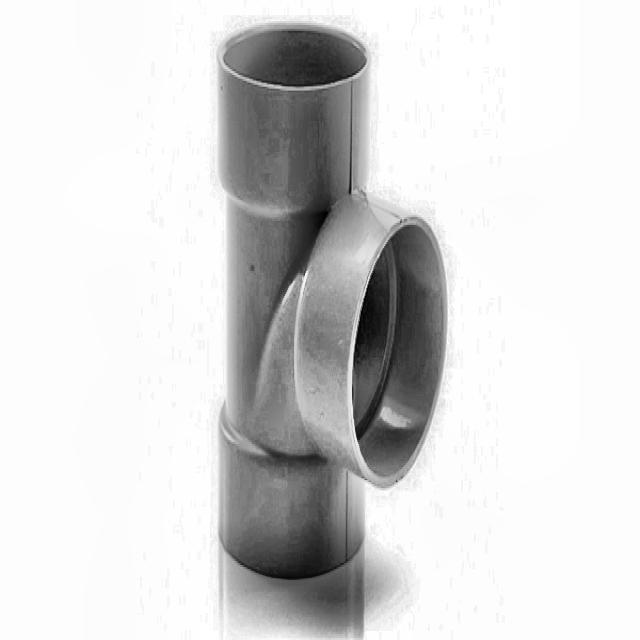EQUALTEE: (214, 21, 448, 584)
